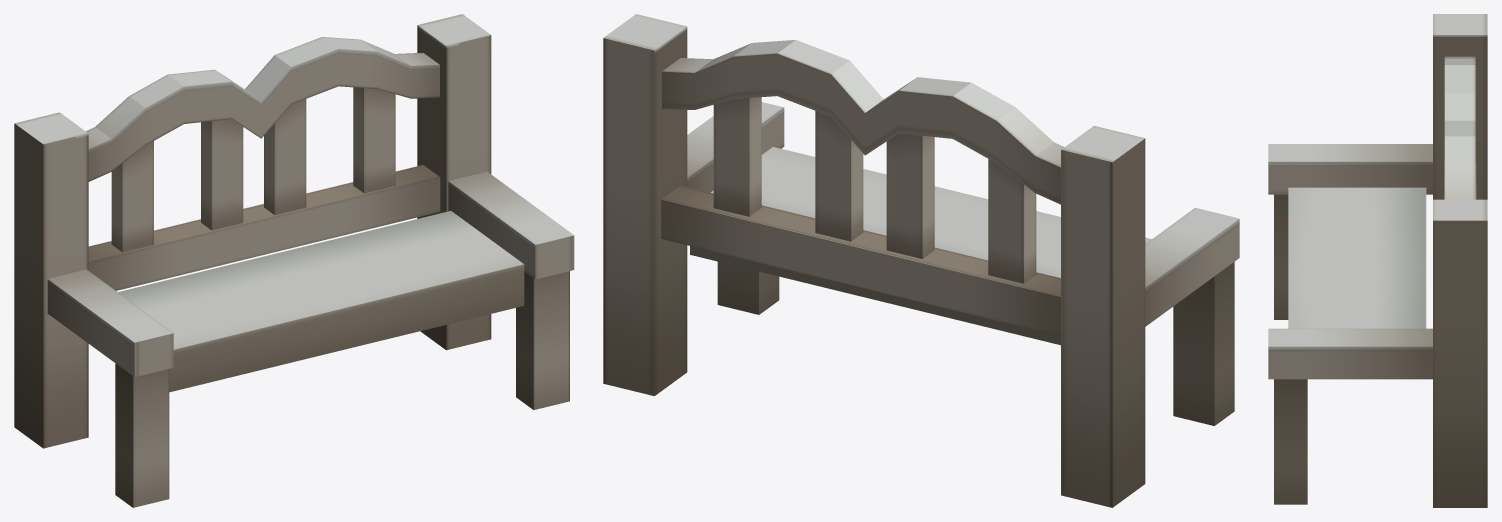
The model's file is Ceshichangji_XiaoChangYi_01.FBX.
The picture shows the model from 3 angles, left to right: view 1: azimuth 30°, elevation 25°; view 2: azimuth 150°, elevation 25°; view 3: azimuth 270°, elevation 25°; orthographic projection. The views are drawn at different scales.
Visible parts, largest first — view 1: Object019; view 2: Object019; view 3: Object019.
Boxes of the visible parts, left/top/right/bottom form: Object019: left=14, top=14, right=574, bottom=507; Object019: left=603, top=14, right=1239, bottom=507; Object019: left=1268, top=14, right=1487, bottom=507.
Size of the model in its own units: 308 by 211 by 138.
